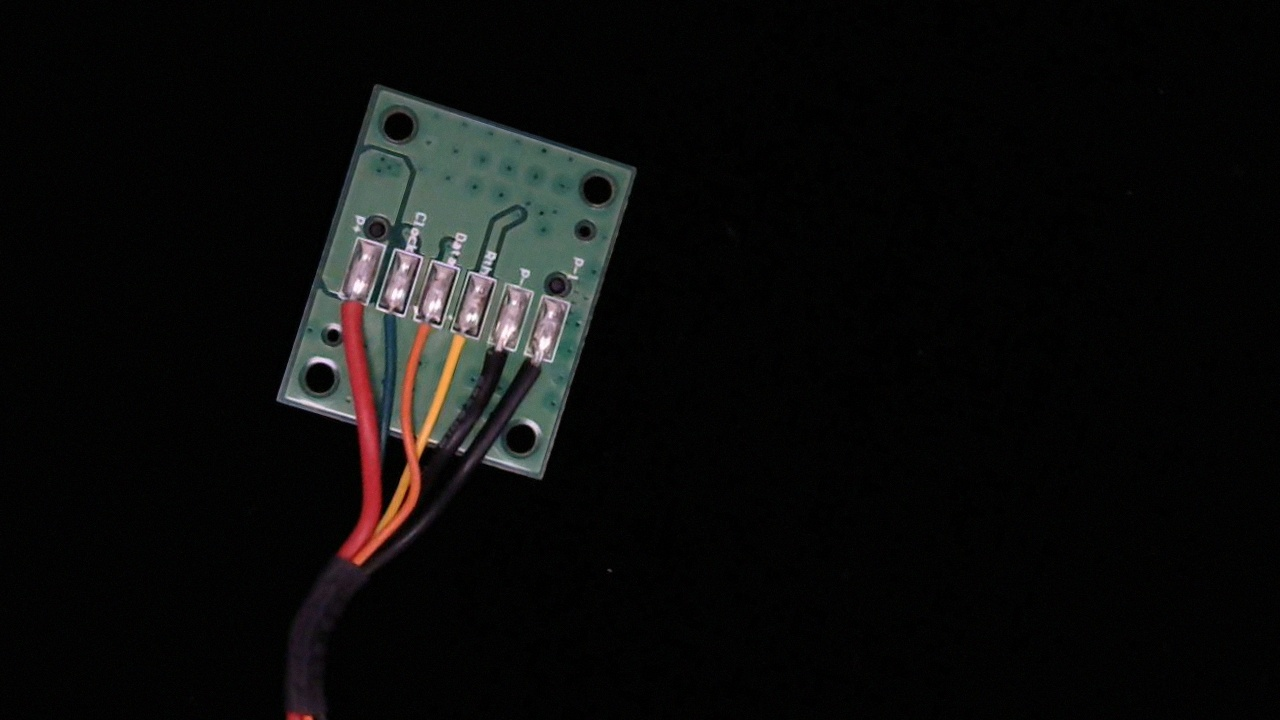Black: (468, 326, 521, 400)
Black1: (512, 339, 559, 406)
Green: (357, 288, 411, 365)
Orange: (396, 301, 448, 380)
Red: (321, 280, 375, 357)
Yellow: (435, 313, 484, 382)
